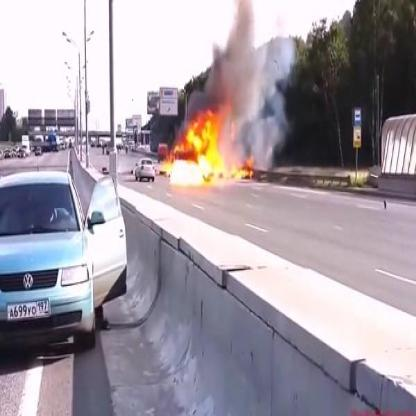fire: (158, 100, 260, 188)
